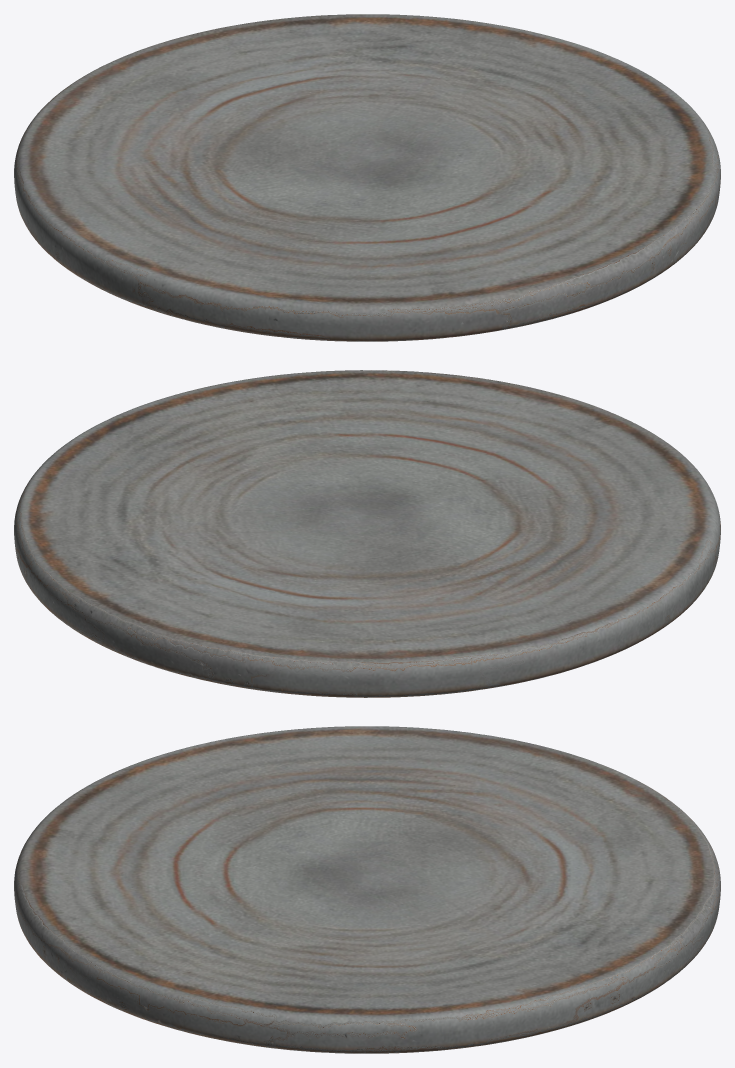
The picture shows the model from 3 angles, top to bottom: view 1: azimuth 30°, elevation 25°; view 2: azimuth 150°, elevation 25°; view 3: azimuth 270°, elevation 25°; orthographic projection.
Size of the model in its own units: 2 by 0.1159 by 2.
1 material, 1 textured.
